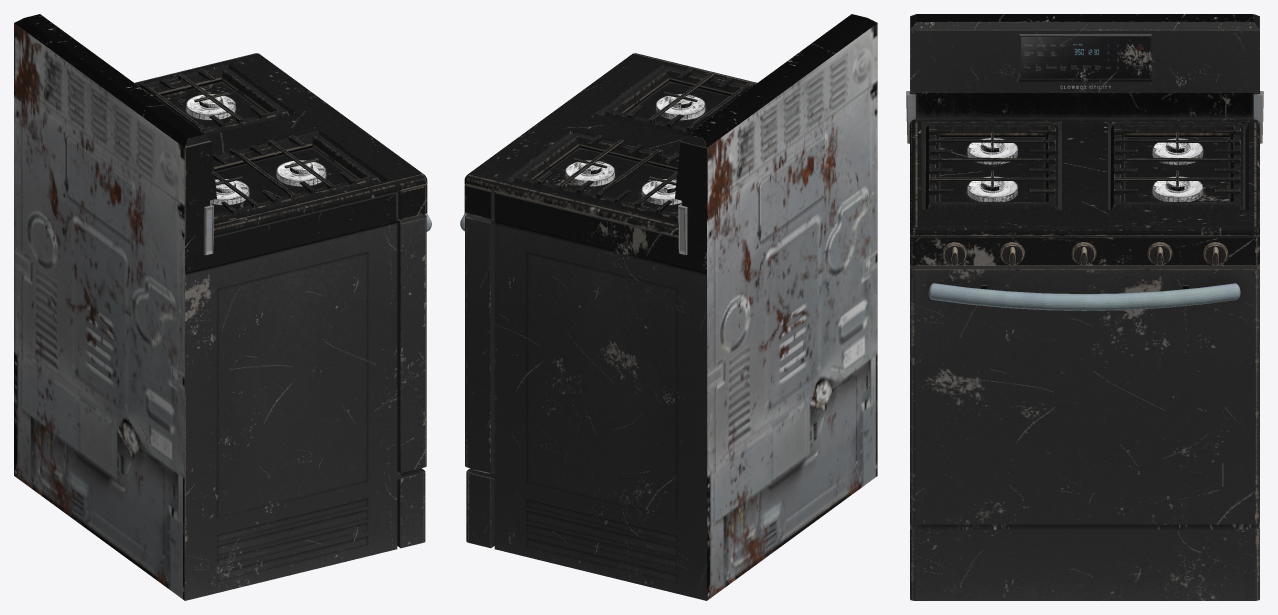
Rendered from Estufa.fbx.
3 views of the same model, side by side, from view 1: azimuth 30°, elevation 25°; view 2: azimuth 150°, elevation 25°; view 3: azimuth 270°, elevation 25° (orthographic). The views are drawn at different scales.
Visible parts, largest first — view 1: Stove; view 2: Stove; view 3: Stove.
Part boxes in pixels (x1,y1,x2,y2): Stove: [14, 14, 431, 600]; Stove: [460, 14, 877, 600]; Stove: [906, 14, 1263, 600].
Size of the model in its own units: 158 by 248 by 171.
1 material, 1 textured.
